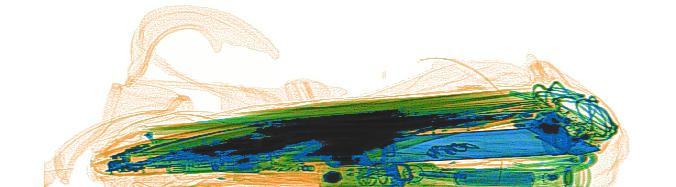battery: (453, 169, 537, 185)
